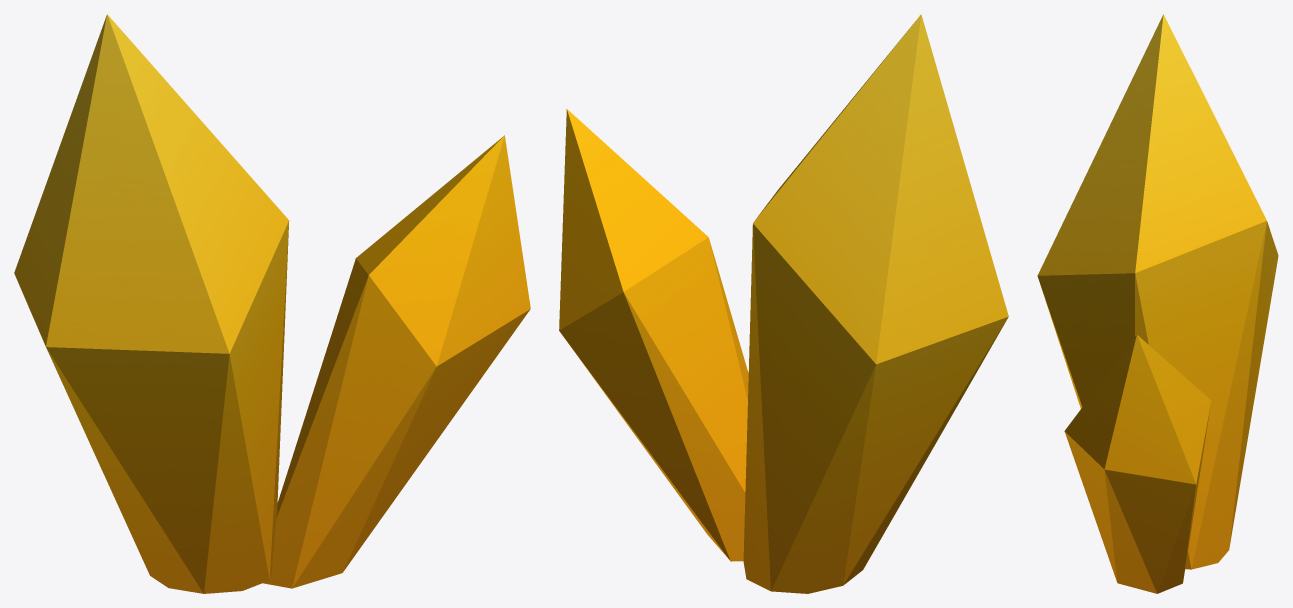
The model's file is Crystal_yellow_04.fbx.
3 renders of one model, left to right at view 1: azimuth 30°, elevation 25°; view 2: azimuth 150°, elevation 25°; view 3: azimuth 270°, elevation 25°, orthographic. The views are drawn at different scales.
Visible parts, largest first — view 1: Crystal_yellow_04; view 2: Crystal_yellow_04; view 3: Crystal_yellow_04.
Part boxes in pixels (bbox=[...]): Crystal_yellow_04: bbox=[14, 14, 530, 593]; Crystal_yellow_04: bbox=[559, 14, 1008, 593]; Crystal_yellow_04: bbox=[1037, 14, 1278, 593].
Bounding box in the file's own units: 75.54 × 93.53 × 41.27.
